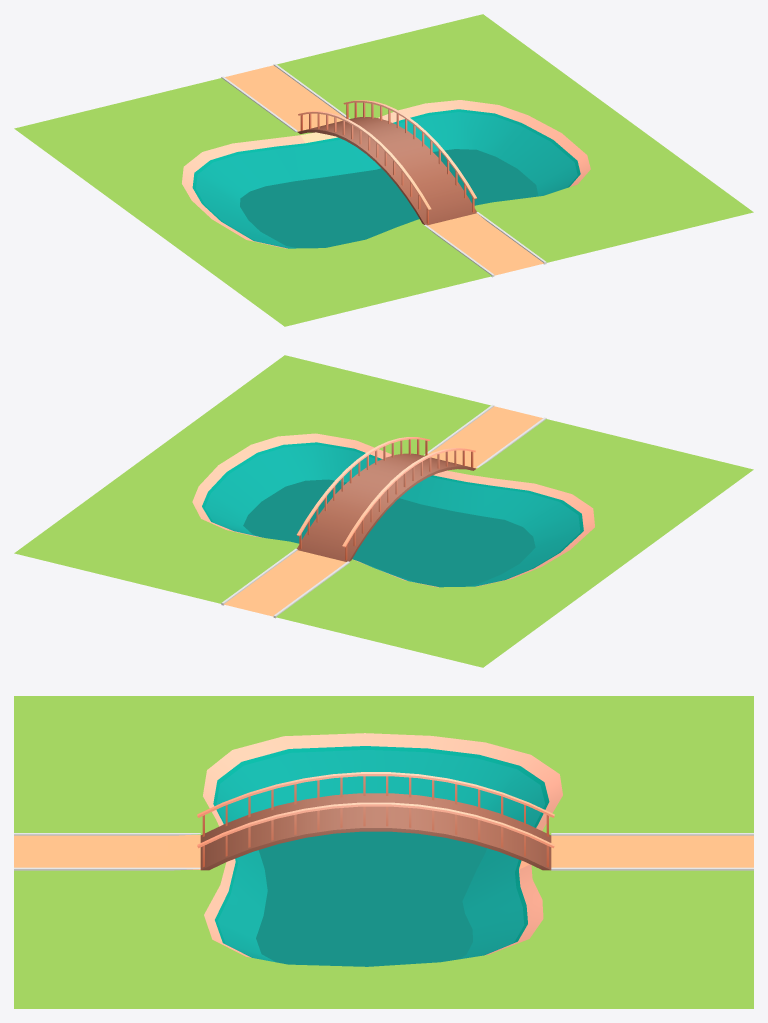
Rendered from park_road_007.glb.
The picture shows the model from 3 angles, top to bottom: view 1: azimuth 30°, elevation 25°; view 2: azimuth 150°, elevation 25°; view 3: azimuth 270°, elevation 25°; orthographic projection. The views are drawn at different scales.
Parts seen in each view (by area): view 1: park_road_007; view 2: park_road_007; view 3: park_road_007.
Boxes of the visible parts, <box> form: park_road_007: <box>14,14,753,326</box>; park_road_007: <box>14,355,753,667</box>; park_road_007: <box>14,696,753,1008</box>.
Bounding box in the file's own units: 45 × 6.66 × 45.
Materials: 2 (2 with a texture image).
